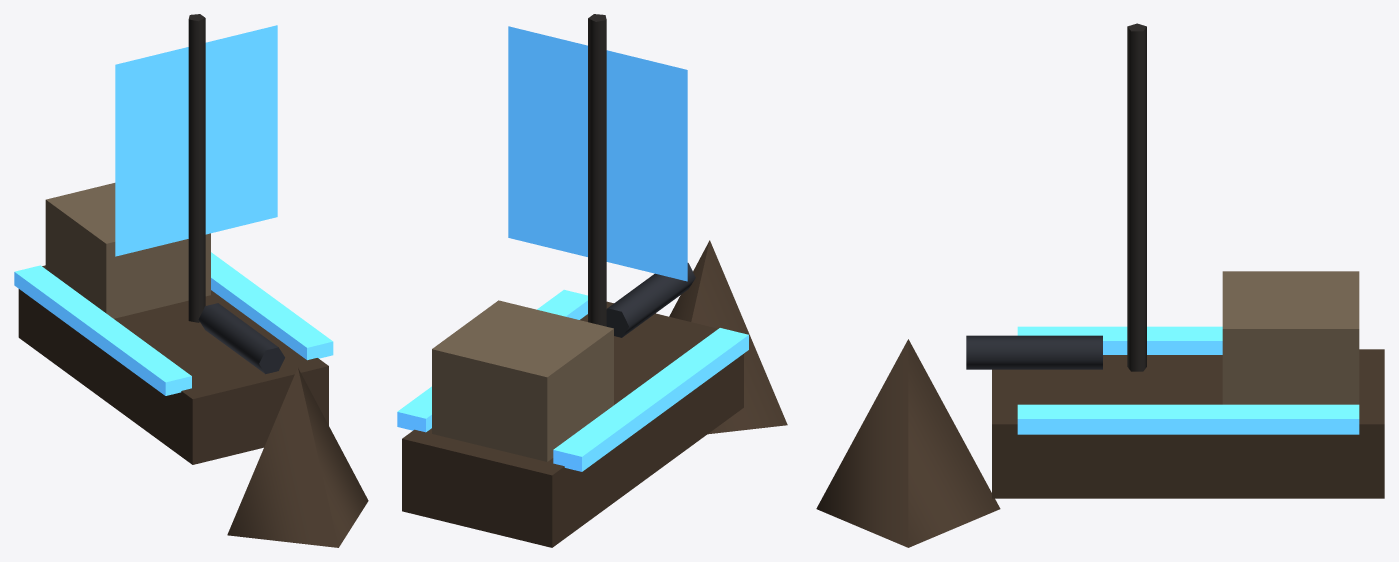
The model's file is ship.glb.
3 views of the same model, side by side, from view 1: azimuth 30°, elevation 25°; view 2: azimuth 150°, elevation 25°; view 3: azimuth 270°, elevation 25° (orthographic). The views are drawn at different scales.
Visible parts, largest first — view 1: ship; view 2: ship; view 3: ship.
Boxes of the visible parts, x1=… form: ship: x1=14, y1=14, x2=368, y2=547; ship: x1=397, y1=14, x2=787, y2=547; ship: x1=816, y1=23, x2=1384, y2=547.
Size of the model in its own units: 0.64 by 1.56 by 1.66.
